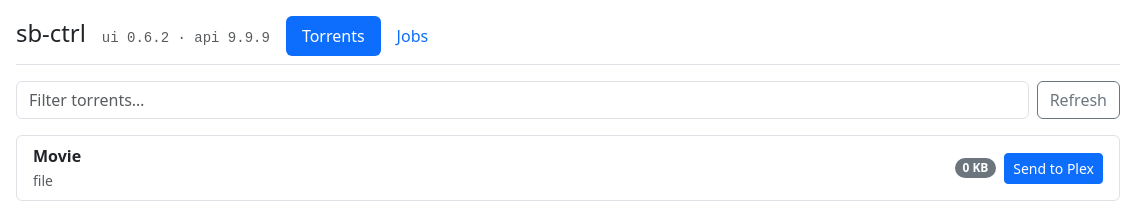
switches between tabs
The image size is (1137, 218).
Expected: the text "Movie" is shown, x1=33 y1=145 x2=81 y2=167
Click the button "Jobs" at (412, 36), box x1=381 y1=16 x2=444 y2=56
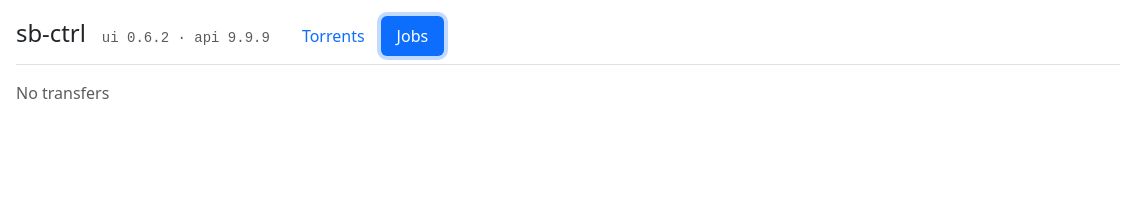
Expected: the text "No transfers" is shown, x1=16 y1=82 x2=109 y2=104
